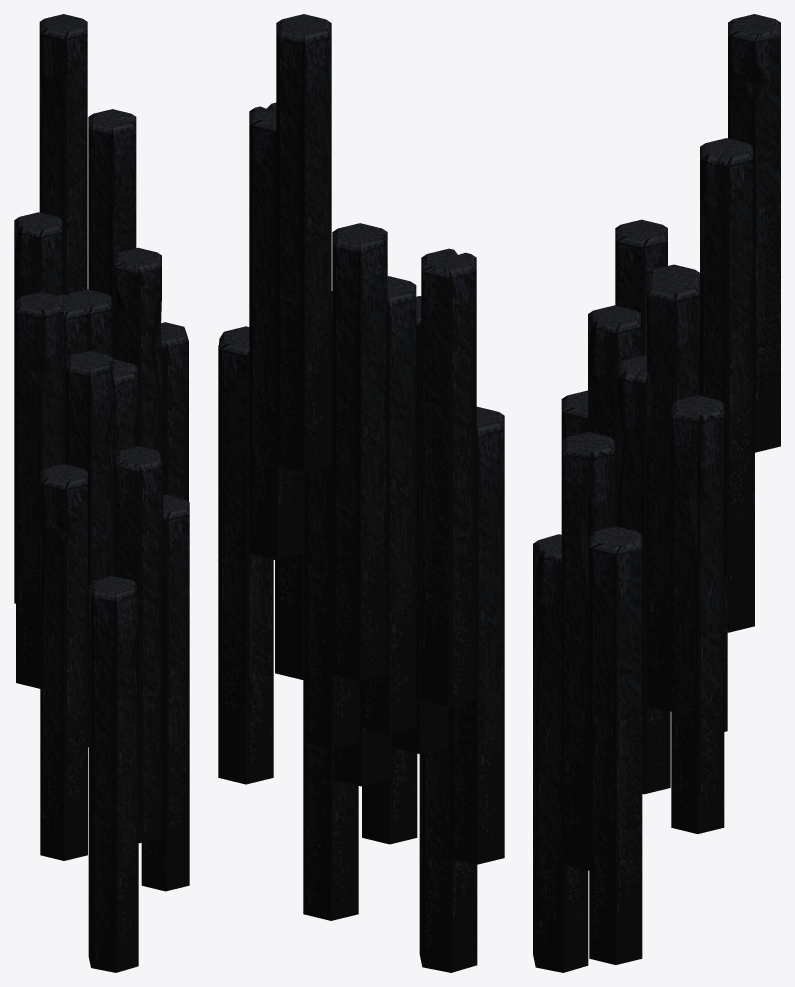
Rendered from EnvMdrMD_Atl_A_Rock_C_L.FBX.
The picture shows the model from 3 angles, left to right: view 1: azimuth 30°, elevation 25°; view 2: azimuth 150°, elevation 25°; view 3: azimuth 270°, elevation 25°; orthographic projection. The views are drawn at different scales.
Parts seen in each view (by area): view 1: EnvMdrMD_Atl_A_Rock_C_L; view 2: EnvMdrMD_Atl_A_Rock_C_L; view 3: EnvMdrMD_Atl_A_Rock_C_L.
Part boxes in pixels (x1,y1,x2,y2): EnvMdrMD_Atl_A_Rock_C_L: (14, 14, 189, 972); EnvMdrMD_Atl_A_Rock_C_L: (218, 14, 504, 972); EnvMdrMD_Atl_A_Rock_C_L: (533, 14, 780, 972).
Size of the model in its own units: 497 by 2070 by 486.
1 material, 1 textured.
